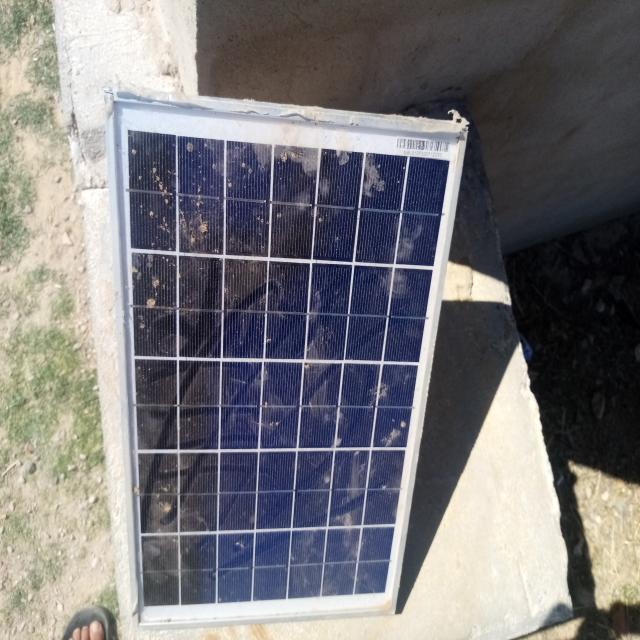faulty: (114, 96, 466, 626)
